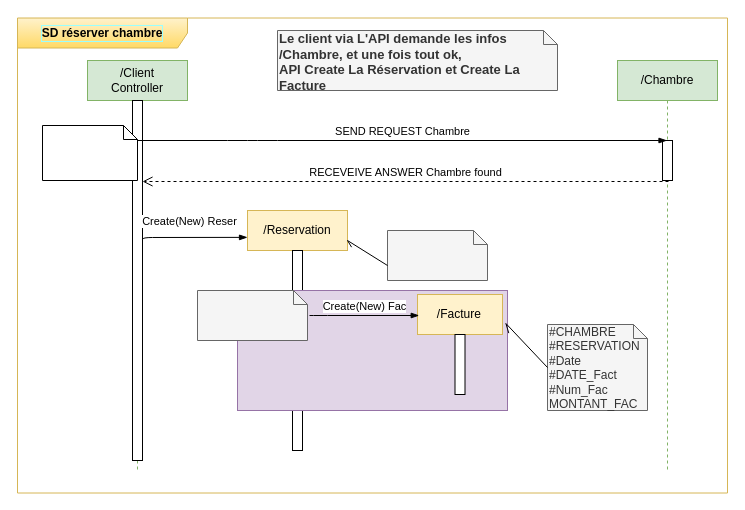
Image size: 745x510. Some labels were removed from this diagram. The shapes that lost their labels are listed below. From the top down, each one's centre as x and y in pixels, then its label:
At (90,152): "LOOP tant qu'on cree des reservations".
At (437,255): "#CHAMBRE #RESERVATION #Date".
At (252,315): "Loop tant qu'on cree des Factures".
